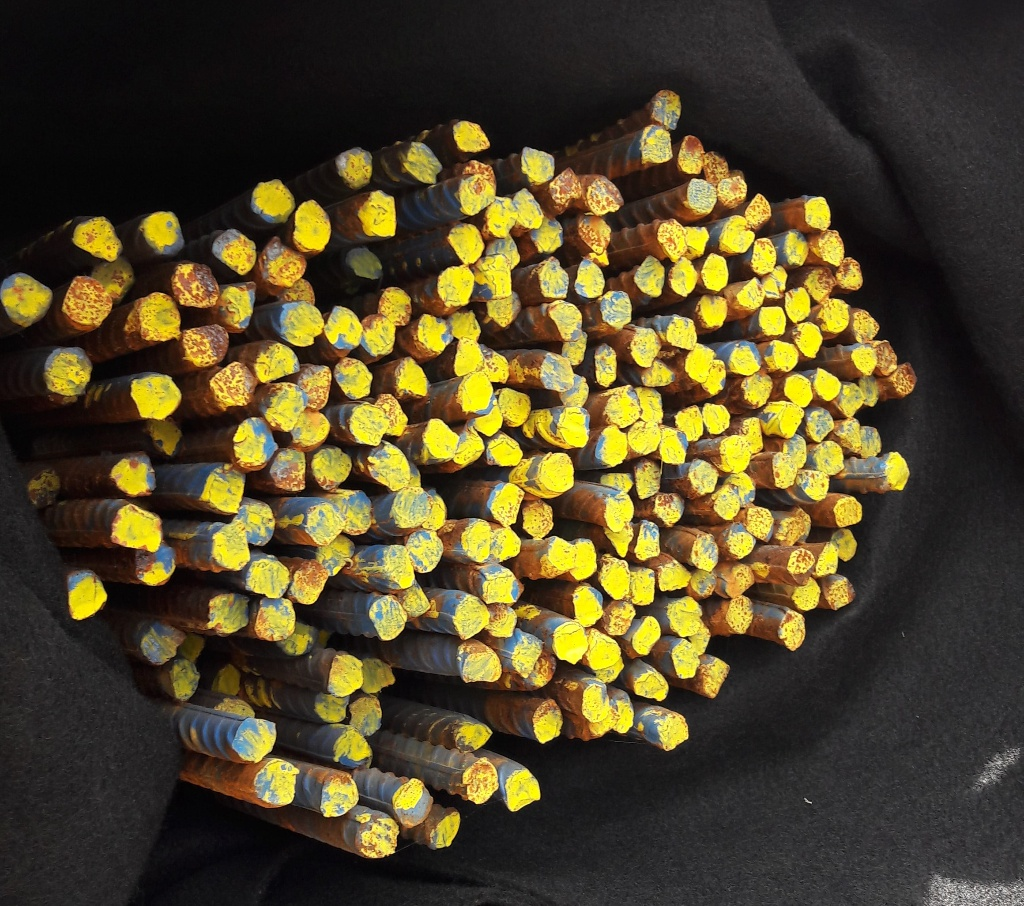dipstick: (1, 271, 53, 328), (63, 276, 113, 327), (111, 503, 161, 553), (71, 215, 122, 262), (42, 347, 91, 394), (130, 374, 182, 418), (259, 236, 305, 285), (212, 228, 257, 276), (234, 417, 279, 465), (137, 292, 181, 341), (171, 263, 219, 307), (66, 568, 107, 619), (210, 361, 255, 406), (392, 778, 432, 828), (279, 301, 324, 345), (459, 161, 496, 214), (251, 179, 295, 223), (139, 212, 182, 257), (265, 382, 305, 430), (206, 463, 244, 513), (185, 324, 229, 367), (254, 342, 300, 383), (358, 813, 399, 859), (295, 200, 332, 250), (135, 542, 177, 586), (234, 718, 276, 761), (255, 761, 297, 804), (369, 445, 409, 490), (358, 189, 395, 237), (213, 522, 250, 570), (463, 757, 499, 806), (459, 641, 502, 682), (257, 598, 297, 642), (93, 259, 135, 300), (334, 358, 374, 400), (350, 403, 389, 446), (488, 482, 525, 527), (249, 559, 290, 599), (207, 593, 249, 632), (238, 502, 274, 547), (370, 596, 406, 641), (321, 773, 358, 816), (222, 283, 255, 331), (325, 304, 361, 348), (505, 768, 541, 812), (454, 595, 489, 640), (312, 450, 351, 490), (307, 503, 345, 544), (476, 253, 510, 298), (437, 266, 475, 306), (404, 142, 441, 183), (114, 451, 150, 493), (336, 146, 372, 188), (408, 531, 443, 574), (293, 560, 327, 604), (142, 623, 178, 664), (423, 417, 458, 459), (448, 223, 483, 265), (339, 491, 372, 535), (300, 365, 332, 410), (418, 313, 453, 354), (458, 372, 493, 413), (539, 452, 574, 493), (554, 621, 588, 663), (382, 545, 414, 589), (393, 489, 430, 527), (317, 538, 355, 575), (327, 655, 363, 694), (587, 176, 623, 215), (361, 315, 396, 355), (538, 352, 574, 390), (271, 451, 305, 491), (549, 300, 582, 341), (534, 698, 563, 744), (537, 255, 568, 298), (335, 730, 371, 767), (719, 215, 755, 252), (578, 213, 611, 253), (595, 425, 627, 466), (640, 124, 672, 165), (558, 407, 589, 449), (588, 628, 620, 668), (607, 385, 639, 425), (351, 696, 382, 737), (379, 287, 411, 326), (657, 712, 689, 751), (486, 197, 517, 237), (463, 519, 491, 563), (378, 395, 408, 436), (603, 491, 633, 532), (811, 230, 845, 266), (483, 569, 520, 602), (522, 501, 555, 538), (293, 413, 331, 445), (396, 357, 428, 395), (490, 527, 521, 566), (669, 597, 700, 636), (630, 328, 661, 367), (172, 660, 200, 703), (570, 538, 598, 581), (636, 254, 664, 297), (685, 343, 715, 383), (521, 146, 555, 181), (722, 472, 756, 507), (632, 616, 661, 657), (657, 220, 686, 261), (347, 247, 383, 280), (364, 659, 397, 695), (488, 291, 521, 327), (574, 260, 605, 298), (601, 291, 632, 329), (454, 723, 493, 753), (574, 586, 603, 626), (283, 623, 318, 656), (315, 690, 350, 723), (634, 669, 669, 702), (603, 600, 636, 635), (400, 581, 432, 617), (550, 168, 582, 204), (722, 523, 754, 559), (430, 812, 461, 849), (452, 121, 489, 152), (721, 435, 751, 473), (513, 637, 542, 676), (668, 257, 697, 296), (601, 561, 629, 601), (672, 639, 700, 679), (825, 576, 857, 611), (652, 90, 680, 130), (741, 372, 773, 407), (533, 217, 564, 253), (704, 657, 730, 699), (780, 610, 806, 652), (818, 299, 850, 333), (792, 323, 823, 358), (516, 188, 543, 228), (655, 492, 685, 528), (688, 458, 718, 494), (501, 389, 530, 426), (691, 533, 720, 570), (884, 450, 910, 491), (581, 682, 608, 721), (728, 596, 755, 635), (149, 420, 179, 455), (687, 178, 717, 213), (487, 438, 523, 467), (454, 338, 483, 374), (726, 562, 755, 598), (674, 405, 702, 442), (788, 548, 815, 586), (636, 458, 661, 499), (628, 421, 660, 453), (729, 342, 761, 374), (487, 238, 520, 269), (666, 317, 697, 350), (783, 374, 813, 408), (547, 538, 576, 573), (678, 135, 704, 174), (745, 506, 773, 542), (605, 521, 632, 558), (660, 428, 687, 465), (595, 342, 617, 387), (703, 253, 729, 291), (745, 193, 771, 231), (814, 441, 843, 475), (807, 268, 836, 302), (713, 485, 740, 521), (630, 569, 656, 606), (658, 561, 690, 591), (766, 342, 798, 372), (793, 576, 821, 610), (806, 407, 834, 441), (836, 257, 864, 291), (459, 429, 486, 464), (636, 520, 660, 559), (834, 495, 863, 527), (718, 176, 747, 208), (752, 238, 777, 275), (772, 452, 797, 489), (700, 295, 728, 328), (490, 604, 517, 638), (814, 367, 841, 401), (738, 418, 764, 453), (484, 347, 509, 383), (779, 402, 804, 438), (776, 516, 805, 547), (801, 469, 829, 501), (737, 277, 765, 309), (804, 196, 831, 229), (701, 360, 726, 395), (786, 287, 811, 322), (212, 664, 240, 695), (702, 403, 730, 434), (563, 330, 587, 366), (421, 495, 446, 529), (452, 311, 481, 340), (785, 230, 809, 265), (530, 654, 555, 687), (832, 529, 857, 562), (782, 436, 807, 469), (704, 151, 728, 185), (893, 363, 917, 397), (853, 311, 879, 342), (640, 363, 675, 386), (842, 417, 863, 455), (759, 307, 787, 335), (859, 425, 882, 459), (875, 341, 897, 376), (816, 541, 838, 575), (842, 383, 864, 417), (686, 226, 709, 257), (692, 569, 716, 598), (851, 345, 875, 374), (765, 267, 786, 299), (182, 633, 205, 661), (692, 620, 711, 653), (859, 377, 879, 407)
